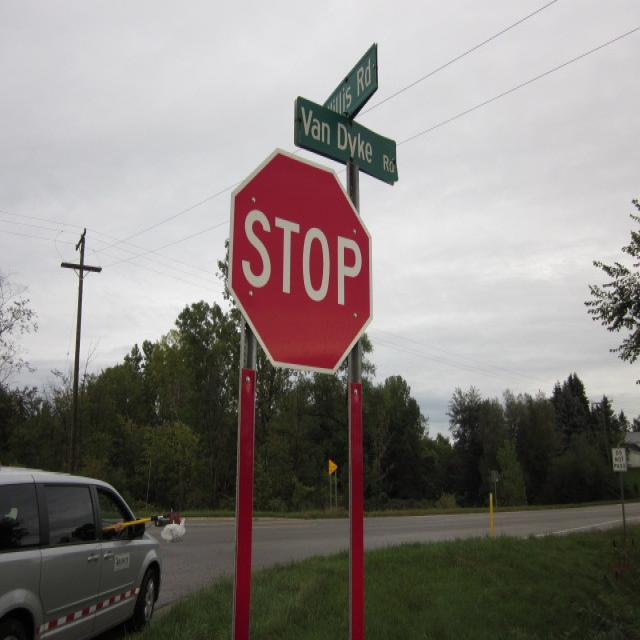stop: (224, 139, 377, 375)
